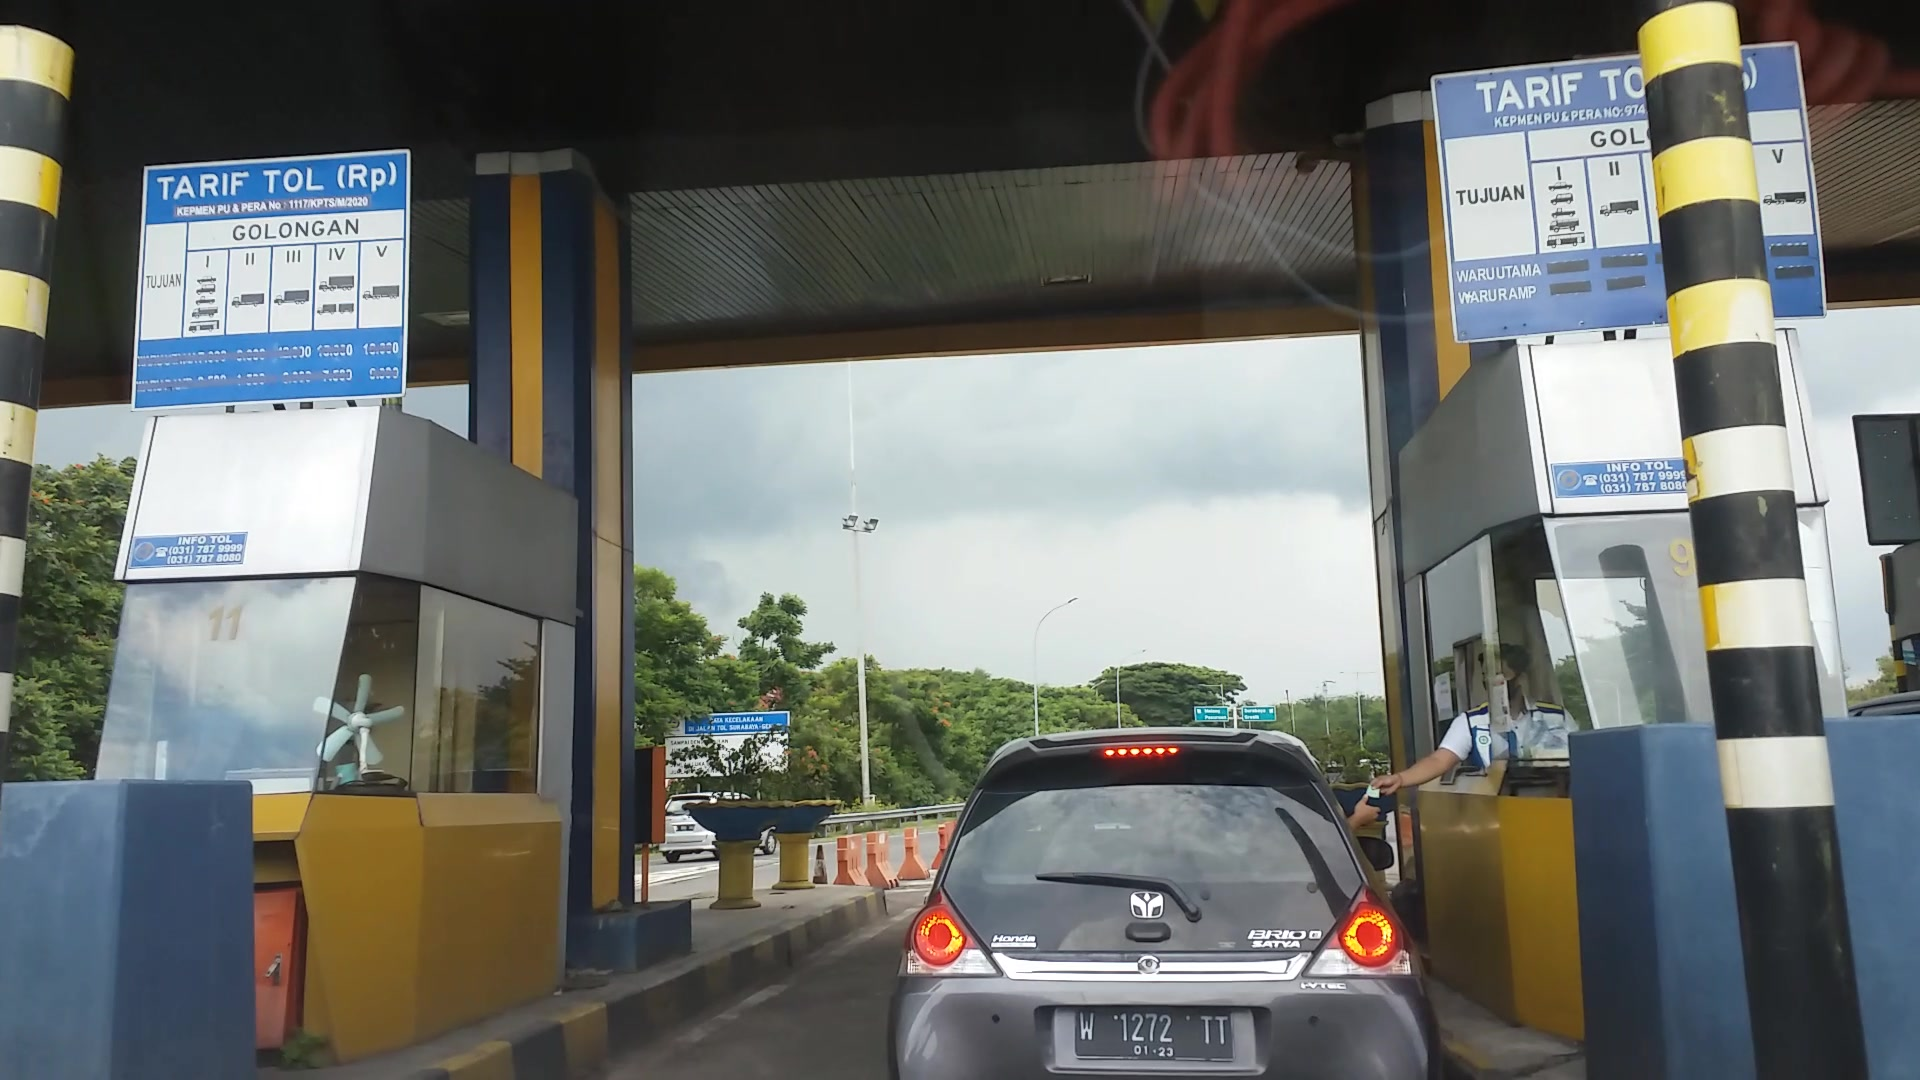plate_positive: (1075, 1007, 1233, 1063)
